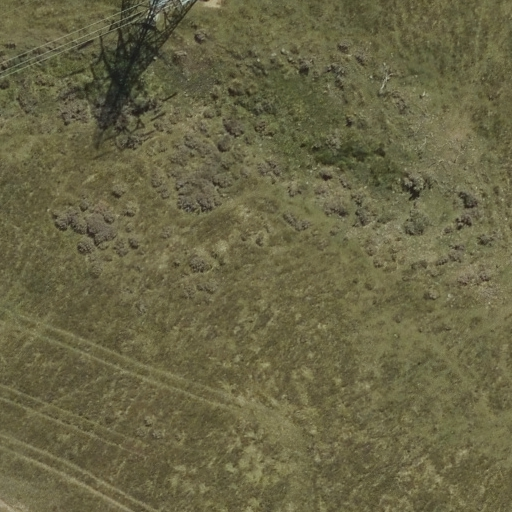TT: (116, 1, 192, 46)
